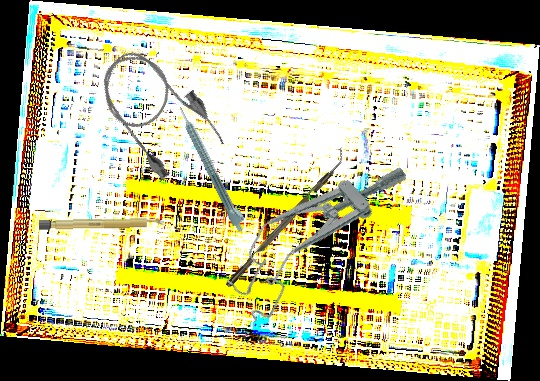Cannula: (85, 33, 231, 189)
Chopper: (218, 146, 353, 289)
Handpiece: (175, 102, 251, 234)
Scalpel Handle: (38, 217, 165, 231)
Speculum: (209, 132, 420, 328)
